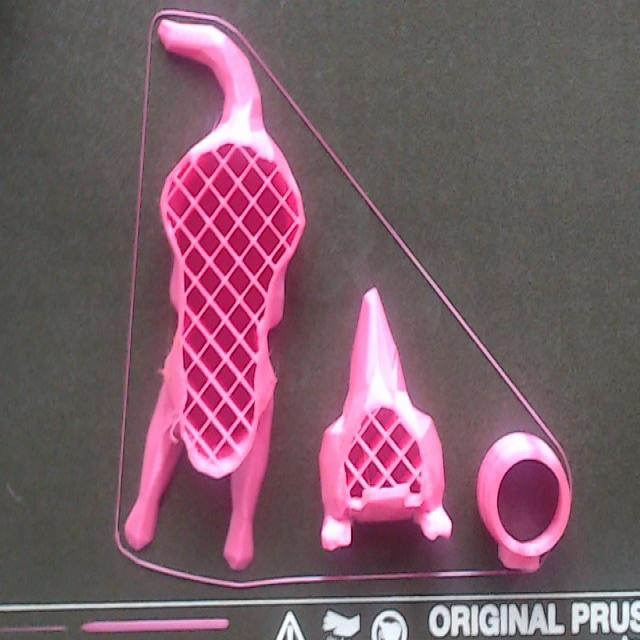mistake: (170, 425, 179, 443), (158, 363, 161, 385)
